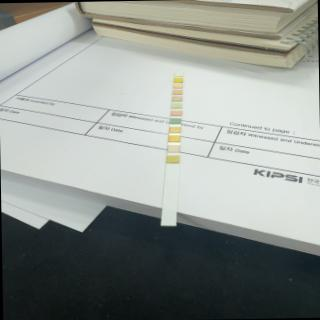mark: (168, 155, 180, 163), (168, 144, 180, 152), (168, 135, 179, 142), (170, 110, 182, 116), (170, 118, 181, 124), (170, 126, 180, 132), (172, 102, 182, 108), (172, 96, 182, 101), (173, 83, 182, 88), (172, 90, 182, 94), (174, 78, 182, 82), (175, 73, 182, 76)
